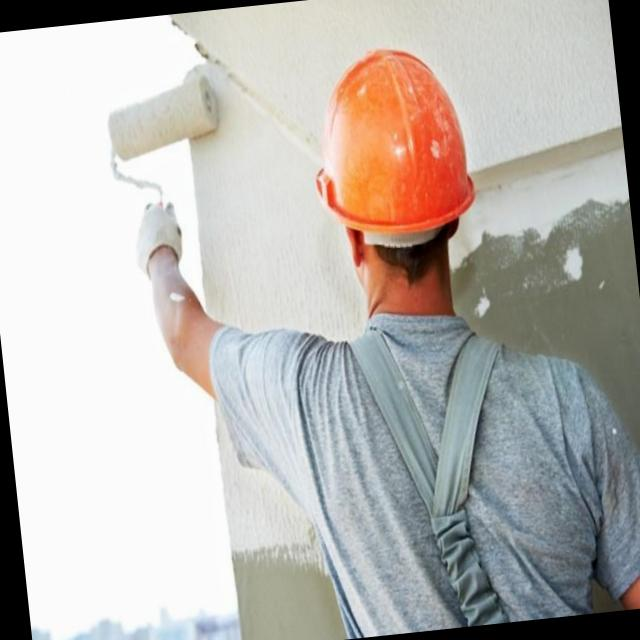helmet: (290, 34, 500, 244)
no-vest: (291, 294, 640, 640)
